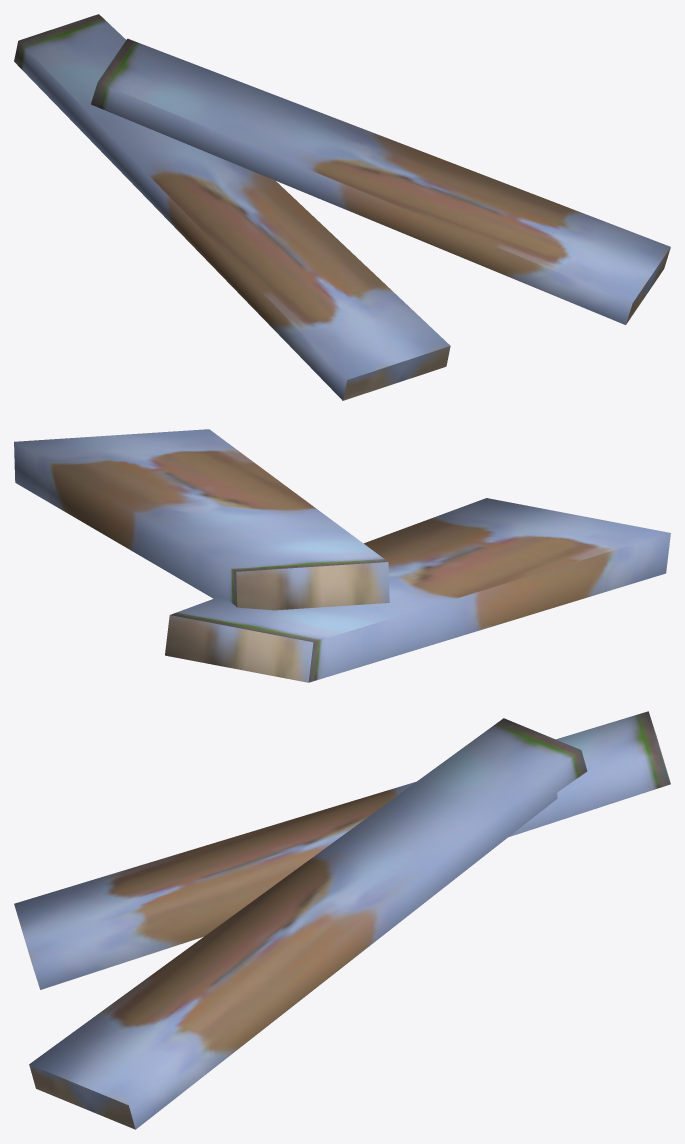
File: Map_10_wood03.FBX
3 renders of one model, top to bottom at view 1: azimuth 30°, elevation 25°; view 2: azimuth 150°, elevation 25°; view 3: azimuth 270°, elevation 25°, orthographic. The views are drawn at different scales.
Parts seen in each view (by area): view 1: Map_10_wood03; view 2: Map_10_wood03; view 3: Map_10_wood03.
Part boxes in pixels (x1,y1,x2,y2): Map_10_wood03: [14, 14, 670, 400]; Map_10_wood03: [14, 429, 670, 682]; Map_10_wood03: [14, 711, 670, 1129].
Bounding box in the file's own units: 161 × 63.26 × 191.
